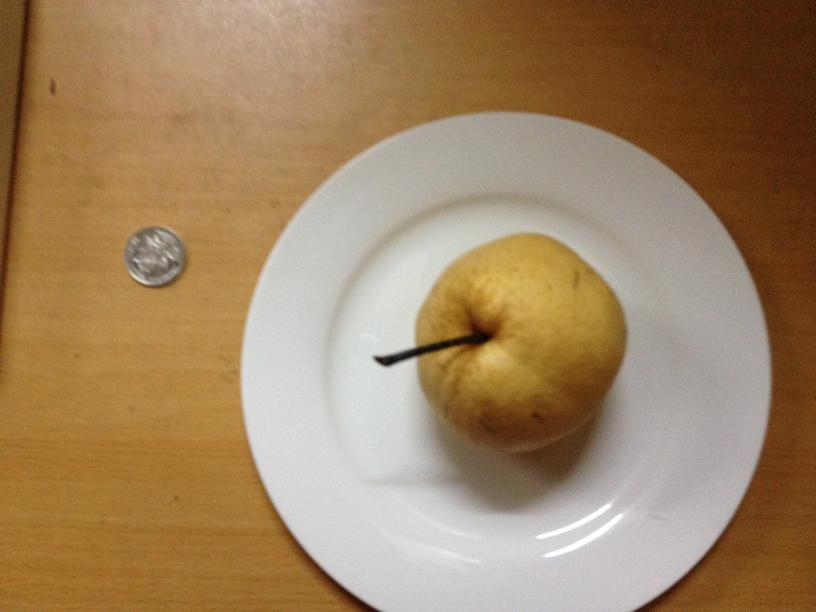coin: (124, 224, 187, 287)
pear: (404, 234, 628, 457)
